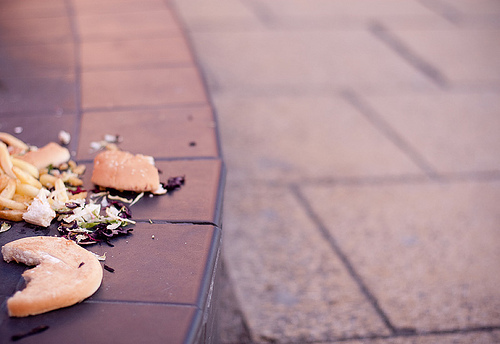litter: (0, 235, 102, 316), (0, 129, 65, 232), (91, 146, 162, 194), (66, 191, 133, 234), (66, 149, 84, 188), (163, 177, 185, 190)
